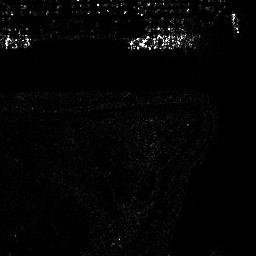ship: (127, 33, 201, 51)
